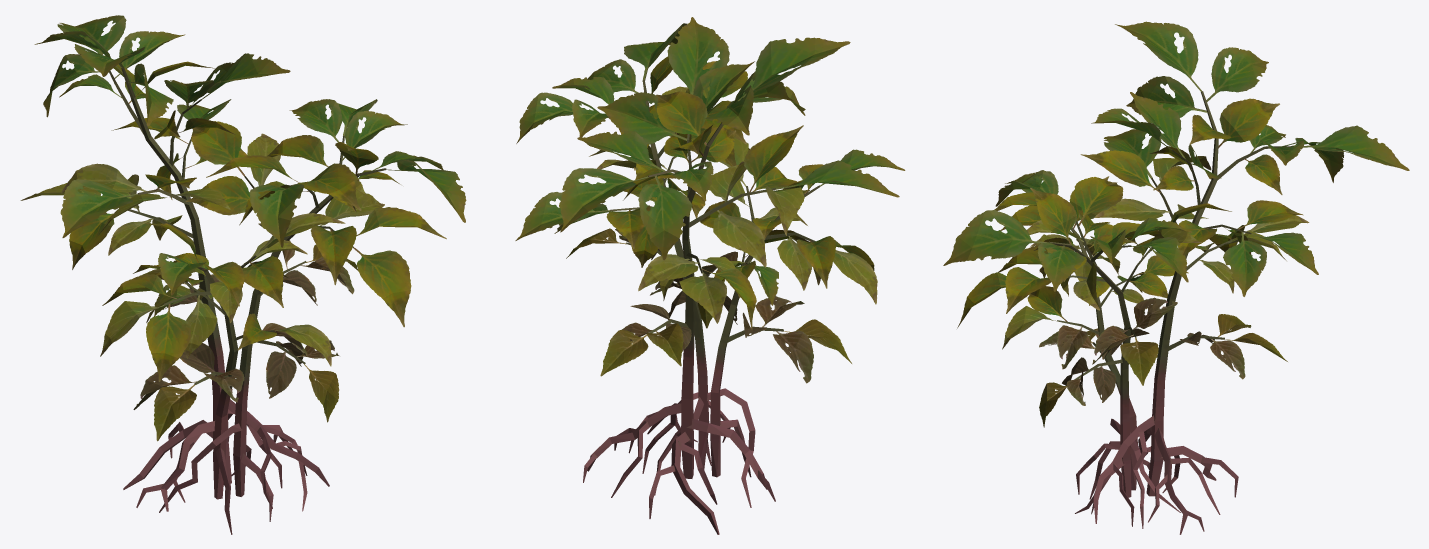
The model's file is P_Herb_00164.obj.
The picture shows the model from 3 angles, left to right: view 1: azimuth 30°, elevation 25°; view 2: azimuth 150°, elevation 25°; view 3: azimuth 270°, elevation 25°; orthographic projection. The views are drawn at different scales.
Size of the model in its own units: 0.6234 by 0.795 by 0.7886.
Materials: 1 (1 with a texture image).
